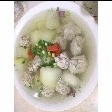dongguawanzi: (14, 7, 92, 102)
